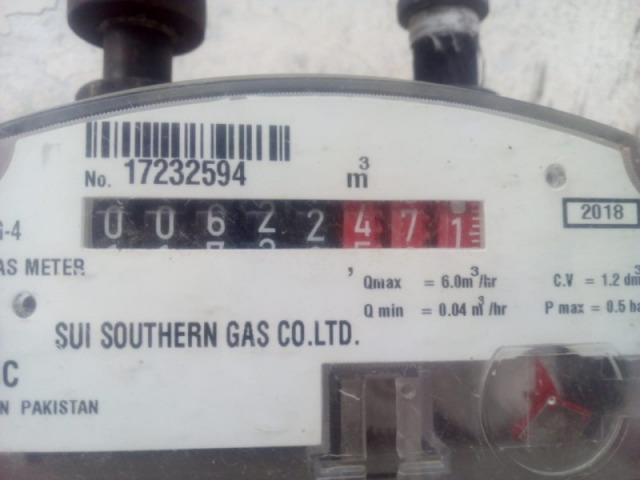ssgc: (79, 192, 493, 255)
